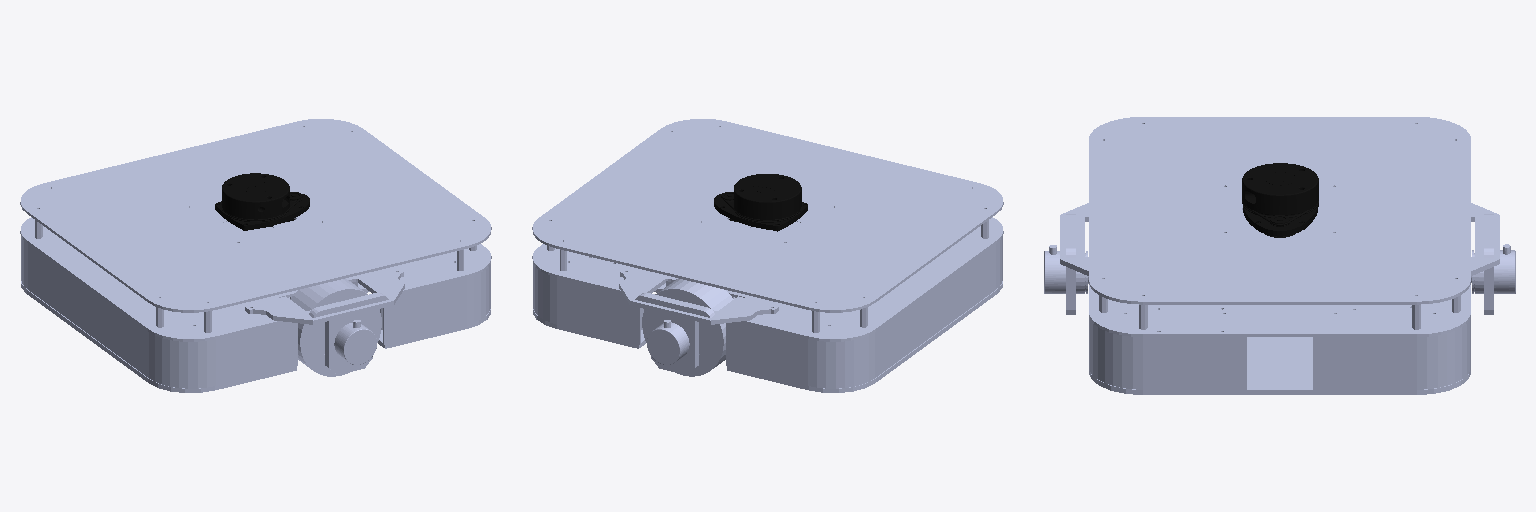
robot.urdf — edgelinkbot:
<?xml version="1.0" encoding="utf-8"?>
<!-- This URDF was automatically created by SolidWorks to URDF Exporter! Originally created by [author] ([email redacted]) 
     Commit Version: 1.6.0-4-g7f85cfe  Build Version: 1.6.7995.38578
     For more information, please see http://wiki.ros.org/sw_urdf_exporter -->
<robot
  name="edgelinkbot">
  <link
    name="base_link">
    <inertial>
      <origin
        xyz="0.00696731732021785 -0.0090034121267864 0.0364233141185039"
        rpy="0 0 0" />
      <mass
        value="2.50029446287432" />
      <inertia
        ixx="0.00829948294023925"
        ixy="-0.000193329909064157"
        ixz="-3.37223447457973E-06"
        iyy="0.0107415543813641"
        iyz="-2.51584710548057E-06"
        izz="0.0184997684702892" />
    </inertial>
    <visual>
      <origin
        xyz="0 0 0"
        rpy="0 0 0" />
      <geometry>
        <mesh
          filename="package://edgelinkbot/meshes/base_link.STL" />
      </geometry>
      <material
        name="">
        <color
          rgba="0.792156862745098 0.819607843137255 0.933333333333333 1" />
      </material>
    </visual>
    <collision>
      <origin
        xyz="0 0 0"
        rpy="0 0 0" />
      <geometry>
        <mesh
          filename="package://edgelinkbot/meshes/base_link.STL" />
      </geometry>
    </collision>
  </link>
  <link
    name="R_motor_link">
    <inertial>
      <origin
        xyz="-8.60422844084496E-16 0.327397966866354 0.000115879862118168"
        rpy="0 0 0" />
      <mass
        value="0.289356764030316" />
      <inertia
        ixx="0.000215565671679599"
        ixy="6.54732099343404E-19"
        ixz="3.28321609907125E-21"
        iyy="0.000340635119483454"
        iyz="-1.60627717767865E-21"
        izz="0.000215565671679599" />
    </inertial>
    <visual>
      <origin
        xyz="0 0 0"
        rpy="0 0 0" />
      <geometry>
        <mesh
          filename="package://edgelinkbot/meshes/R_motor_link.STL" />
      </geometry>
      <material
        name="">
        <color
          rgba="0.792156862745098 0.819607843137255 0.933333333333333 1" />
      </material>
    </visual>
    <collision>
      <origin
        xyz="0 0 0"
        rpy="0 0 0" />
      <geometry>
        <mesh
          filename="package://edgelinkbot/meshes/R_motor_link.STL" />
      </geometry>
    </collision>
  </link>
  <joint
    name="R_motor_joint"
    type="continuous">
    <origin
      xyz="0 -0.175 0.0255000000000001"
      rpy="0 0 0" />
    <parent
      link="base_link" />
    <child
      link="R_motor_link" />
    <axis
      xyz="0 1 0" />
  </joint>
  <link
    name="L_motor_link">
    <inertial>
      <origin
        xyz="7.21644966006352E-16 -0.327397966866354 -0.000115879862118168"
        rpy="0 0 0" />
      <mass
        value="0.289356764030316" />
      <inertia
        ixx="0.000215565671679599"
        ixy="2.3747113970114E-22"
        ixz="8.65333585907533E-22"
        iyy="0.000340635119483454"
        iyz="3.50884930732294E-21"
        izz="0.000215565671679599" />
    </inertial>
    <visual>
      <origin
        xyz="0 0 0"
        rpy="0 0 0" />
      <geometry>
        <mesh
          filename="package://edgelinkbot/meshes/L_motor_link.STL" />
      </geometry>
      <material
        name="">
        <color
          rgba="0.792156862745098 0.819607843137255 0.933333333333333 1" />
      </material>
    </visual>
    <collision>
      <origin
        xyz="0 0 0"
        rpy="0 0 0" />
      <geometry>
        <mesh
          filename="package://edgelinkbot/meshes/L_motor_link.STL" />
      </geometry>
    </collision>
  </link>
  <joint
    name="L_motor_joint"
    type="continuous">
    <origin
      xyz="0 0.175 0.025616"
      rpy="0 0 0" />
    <parent
      link="base_link" />
    <child
      link="L_motor_link" />
    <axis
      xyz="0 1 0" />
  </joint>
  <link
    name="caster_fl_link">
    <inertial>
      <origin
        xyz="0.00555694201903228 -8.48278855126172E-05 -0.00491960533542843"
        rpy="0 0 0" />
      <mass
        value="0.00702028303224215" />
      <inertia
        ixx="1.97342211410058E-06"
        ixy="-1.92439546284557E-09"
        ixz="2.36927161015266E-07"
        iyy="1.52832706823907E-06"
        iyz="-3.44383195535888E-09"
        izz="2.51096219721311E-06" />
    </inertial>
    <visual>
      <origin
        xyz="0 0 0"
        rpy="0 0 0" />
      <geometry>
        <mesh
          filename="package://edgelinkbot/meshes/caster_fl_link.STL" />
      </geometry>
      <material
        name="">
        <color
          rgba="1 1 1 1" />
      </material>
    </visual>
    <collision>
      <origin
        xyz="0 0 0"
        rpy="0 0 0" />
      <geometry>
        <mesh
          filename="package://edgelinkbot/meshes/caster_fl_link.STL" />
      </geometry>
    </collision>
  </link>
  <joint
    name="caster_fl_joint"
    type="continuous">
    <origin
      xyz="0.121 0.09575 0.03612"
      rpy="0 0 0" />
    <parent
      link="base_link" />
    <child
      link="caster_fl_link" />
    <axis
      xyz="0 0 1" />
  </joint>
  <link
    name="caster_wheel_fl_link">
    <inertial>
      <origin
        xyz="-5.55111512312578E-17 0 -2.77555756156289E-17"
        rpy="0 0 0" />
      <mass
        value="0.0430615244083842" />
      <inertia
        ixx="8.29709714565463E-06"
        ixy="6.21453112662801E-08"
        ixz="2.36482232947536E-21"
        iyy="1.25716382734955E-05"
        iyz="-1.69498041910481E-21"
        izz="8.2961938384614E-06" />
    </inertial>
    <visual>
      <origin
        xyz="0 0 0"
        rpy="0 0 0" />
      <geometry>
        <mesh
          filename="package://edgelinkbot/meshes/caster_wheel_fl_link.STL" />
      </geometry>
      <material
        name="">
        <color
          rgba="0.752941176470588 0.752941176470588 0.752941176470588 1" />
      </material>
    </visual>
    <collision>
      <origin
        xyz="0 0 0"
        rpy="0 0 0" />
      <geometry>
        <mesh
          filename="package://edgelinkbot/meshes/caster_wheel_fl_link.STL" />
      </geometry>
    </collision>
  </link>
  <joint
    name="caster_wheel_fl_joint"
    type="continuous">
    <origin
      xyz="0.0219976763106033 -0.000319745107726421 -0.03412"
      rpy="0 0 0" />
    <parent
      link="caster_fl_link" />
    <child
      link="caster_wheel_fl_link" />
    <axis
      xyz="0.0145338685330141 0.999894377754703 0" />
  </joint>
  <link
    name="caster_fr_link">
    <inertial>
      <origin
        xyz="0.00555488050967479 0.000167500058819436 -0.00632460533542847"
        rpy="0 0 0" />
      <mass
        value="0.00702028303224219" />
      <inertia
        ixx="1.97332390175124E-06"
        ixy="4.08578003373284E-09"
        ixz="2.36839265989836E-07"
        iyy="1.52842528058844E-06"
        iyz="7.31448499132989E-09"
        izz="2.51096219721312E-06" />
    </inertial>
    <visual>
      <origin
        xyz="0 0 0"
        rpy="0 0 0" />
      <geometry>
        <mesh
          filename="package://edgelinkbot/meshes/caster_fr_link.STL" />
      </geometry>
      <material
        name="">
        <color
          rgba="1 1 1 1" />
      </material>
    </visual>
    <collision>
      <origin
        xyz="0 0 0"
        rpy="0 0 0" />
      <geometry>
        <mesh
          filename="package://edgelinkbot/meshes/caster_fr_link.STL" />
      </geometry>
    </collision>
  </link>
  <joint
    name="caster_fr_joint"
    type="continuous">
    <origin
      xyz="0.121 -0.09625 0.037525"
      rpy="0 0 0" />
    <parent
      link="base_link" />
    <child
      link="caster_fr_link" />
    <axis
      xyz="0 0 1" />
  </joint>
  <link
    name="caster_wheel_fr_link">
    <inertial>
      <origin
        xyz="0 0 0"
        rpy="0 0 0" />
      <mass
        value="0.0430615244083842" />
      <inertia
        ixx="8.30026875831885E-06"
        ixy="-1.31943811375545E-07"
        ixz="4.01636705035217E-22"
        iyy="1.25684666608312E-05"
        iyz="-1.59593558706444E-21"
        izz="8.2961938384614E-06" />
    </inertial>
    <visual>
      <origin
        xyz="0 0 0"
        rpy="0 0 0" />
      <geometry>
        <mesh
          filename="package://edgelinkbot/meshes/caster_wheel_fr_link.STL" />
      </geometry>
      <material
        name="">
        <color
          rgba="0.752941176470588 0.752941176470588 0.752941176470588 1" />
      </material>
    </visual>
    <collision>
      <origin
        xyz="0 0 0"
        rpy="0 0 0" />
      <geometry>
        <mesh
          filename="package://edgelinkbot/meshes/caster_wheel_fr_link.STL" />
      </geometry>
    </collision>
  </link>
  <joint
    name="caster_wheel_fr_joint"
    type="continuous">
    <origin
      xyz="0.0219895156324024 0.000679118732225148 -0.035525"
      rpy="0 0 0" />
    <parent
      link="caster_fr_link" />
    <child
      link="caster_wheel_fr_link" />
    <axis
      xyz="-0.0308690332828908 0.999523437836342 0" />
  </joint>
  <link
    name="caster_br_link">
    <inertial>
      <origin
        xyz="0.00554806966014744 -0.000328172488371747 -0.00491960533542848"
        rpy="0 0 0" />
      <mass
        value="0.00702028303224219" />
      <inertia
        ixx="1.97299968520988E-06"
        ixy="-7.70973067225906E-09"
        ixz="2.36548876916728E-07"
        iyy="1.52874949712981E-06"
        iyz="-1.38191329224037E-08"
        izz="2.51096219721312E-06" />
    </inertial>
    <visual>
      <origin
        xyz="0 0 0"
        rpy="0 0 0" />
      <geometry>
        <mesh
          filename="package://edgelinkbot/meshes/caster_br_link.STL" />
      </geometry>
      <material
        name="">
        <color
          rgba="1 1 1 1" />
      </material>
    </visual>
    <collision>
      <origin
        xyz="0 0 0"
        rpy="0 0 0" />
      <geometry>
        <mesh
          filename="package://edgelinkbot/meshes/caster_br_link.STL" />
      </geometry>
    </collision>
  </link>
  <joint
    name="caster_br_joint"
    type="continuous">
    <origin
      xyz="-0.121 -0.09625 0.03612"
      rpy="0 0 0" />
    <parent
      link="base_link" />
    <child
      link="caster_br_link" />
    <axis
      xyz="0 0 1" />
  </joint>
  <link
    name="caster_wheel_br_link">
    <inertial>
      <origin
        xyz="0 -5.55111512312578E-17 2.77555756156289E-17"
        rpy="0 0 0" />
      <mass
        value="0.0430615244083843" />
      <inertia
        ixx="8.3107388193172E-06"
        ixy="2.48973572041881E-07"
        ixz="1.38603517839785E-21"
        iyy="1.25579965998329E-05"
        iyz="-1.62550920920244E-21"
        izz="8.29619383846141E-06" />
    </inertial>
    <visual>
      <origin
        xyz="0 0 0"
        rpy="0 0 0" />
      <geometry>
        <mesh
          filename="package://edgelinkbot/meshes/caster_wheel_br_link.STL" />
      </geometry>
      <material
        name="">
        <color
          rgba="0.752941176470588 0.752941176470588 0.752941176470588 1" />
      </material>
    </visual>
    <collision>
      <origin
        xyz="0 0 0"
        rpy="0 0 0" />
      <geometry>
        <mesh
          filename="package://edgelinkbot/meshes/caster_wheel_br_link.STL" />
      </geometry>
    </collision>
  </link>
  <joint
    name="caster_wheel_br_joint"
    type="continuous">
    <origin
      xyz="0.0219625542455878 -0.00128304754768349 -0.03412"
      rpy="0 0 0" />
    <parent
      link="caster_br_link" />
    <child
      link="caster_wheel_br_link" />
    <axis
      xyz="0.0583203430765141 0.998297920253988 0" />
  </joint>
  <link
    name="caster_bl_link">
    <inertial>
      <origin
        xyz="0.00555573748123371 -0.000145157659774853 -0.0049196053354284"
        rpy="0 0 0" />
      <mass
        value="0.00702028303224216" />
      <inertia
        ixx="1.97336472430014E-06"
        ixy="-3.36101849857335E-09"
        ixz="2.36875804042283E-07"
        iyy="1.52838445803953E-06"
        iyz="-6.016067204845E-09"
        izz="2.51096219721312E-06" />
    </inertial>
    <visual>
      <origin
        xyz="0 0 0"
        rpy="0 0 0" />
      <geometry>
        <mesh
          filename="package://edgelinkbot/meshes/caster_bl_link.STL" />
      </geometry>
      <material
        name="">
        <color
          rgba="1 1 1 1" />
      </material>
    </visual>
    <collision>
      <origin
        xyz="0 0 0"
        rpy="0 0 0" />
      <geometry>
        <mesh
          filename="package://edgelinkbot/meshes/caster_bl_link.STL" />
      </geometry>
    </collision>
  </link>
  <joint
    name="caster_bl_joint"
    type="continuous">
    <origin
      xyz="-0.121 0.09575 0.03612"
      rpy="0 0 0" />
    <parent
      link="base_link" />
    <child
      link="caster_bl_link" />
    <axis
      xyz="0 0 1" />
  </joint>
  <link
    name="caster_wheel_link">
    <inertial>
      <origin
        xyz="0 0 2.77555756156289E-17"
        rpy="0 0 0" />
      <mass
        value="0.0430615244083843" />
      <inertia
        ixx="8.29895045859429E-06"
        ixy="1.08538782593283E-07"
        ixz="-8.55941061891113E-23"
        iyy="1.25697849605558E-05"
        iyz="-1.57793686514242E-21"
        izz="8.29619383846142E-06" />
    </inertial>
    <visual>
      <origin
        xyz="0 0 0"
        rpy="0 0 0" />
      <geometry>
        <mesh
          filename="package://edgelinkbot/meshes/caster_wheel_link.STL" />
      </geometry>
      <material
        name="">
        <color
          rgba="0.752941176470588 0.752941176470588 0.752941176470588 1" />
      </material>
    </visual>
    <collision>
      <origin
        xyz="0 0 0"
        rpy="0 0 0" />
      <geometry>
        <mesh
          filename="package://edgelinkbot/meshes/caster_wheel_link.STL" />
      </geometry>
    </collision>
  </link>
  <joint
    name="caster_wheel_joint"
    type="continuous">
    <origin
      xyz="0.02199290803472 -0.000558566179023057 -0.03412"
      rpy="0 0 0" />
    <parent
      link="caster_bl_link" />
    <child
      link="caster_wheel_link" />
    <axis
      xyz="0.0253893717737699 0.999677637941818 0" />
  </joint>
  <link
    name="lidar_link">
    <inertial>
      <origin
        xyz="0.00577265858294868 0.000571104004925105 -0.0192534162964028"
        rpy="0 0 0" />
      <mass
        value="0.14092250334185" />
      <inertia
        ixx="4.47011677227243E-05"
        ixy="-5.73365776755427E-07"
        ixz="3.7831029954513E-06"
        iyy="7.04889269829893E-05"
        iyz="-2.45426224626736E-07"
        izz="0.000104059454862497" />
    </inertial>
    <visual>
      <origin
        xyz="0 0 0"
        rpy="0 0 0" />
      <geometry>
        <mesh
          filename="package://edgelinkbot/meshes/lidar_link.STL" />
      </geometry>
      <material
        name="">
        <color
          rgba="0.101960784313725 0.101960784313725 0.101960784313725 1" />
      </material>
    </visual>
    <collision>
      <origin
        xyz="0 0 0"
        rpy="0 0 0" />
      <geometry>
        <mesh
          filename="package://edgelinkbot/meshes/lidar_link.STL" />
      </geometry>
    </collision>
  </link>
  <joint
    name="lidar_joint"
    type="fixed">
    <origin
      xyz="0.000118423174117921 0.000323856797271926 0.11985"
      rpy="0 0 0" />
    <parent
      link="base_link" />
    <child
      link="lidar_link" />
    <axis
      xyz="0 -1 0" />
  </joint>
</robot>

--- Render facts (derived) ---
3 views of the same robot in one strip: view 1: azimuth 30°, elevation 25°; view 2: azimuth 150°, elevation 25°; view 3: azimuth 270°, elevation 25° (orthographic).
Model edgelinkbot with 12 links and 11 joints (10 continuous, 1 fixed), rooted at base_link, posed all joints at 0.
Links seen in each view (by area): view 1: base_link, lidar_link, L_motor_link; view 2: base_link, lidar_link, R_motor_link; view 3: base_link, lidar_link.
Boxes of the visible links, x1,y1,x2,y2 form: base_link: (20,119,491,392); lidar_link: (215,173,309,230); L_motor_link: (290,278,381,376); base_link: (532,119,1003,392); lidar_link: (714,174,807,231); R_motor_link: (642,278,733,376); base_link: (1044,117,1515,394); lidar_link: (1242,163,1318,237).
Size in the robot's own frame: 0.4 by 0.4305 by 0.1428 metres.
Meshes: 12 distinct files referenced, 12 mesh visuals loaded (12 binary STL).